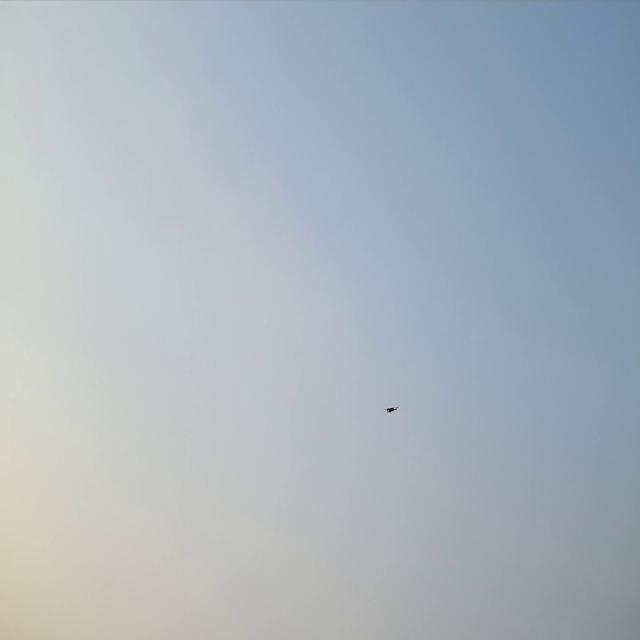UAV: (385, 404, 401, 415)
